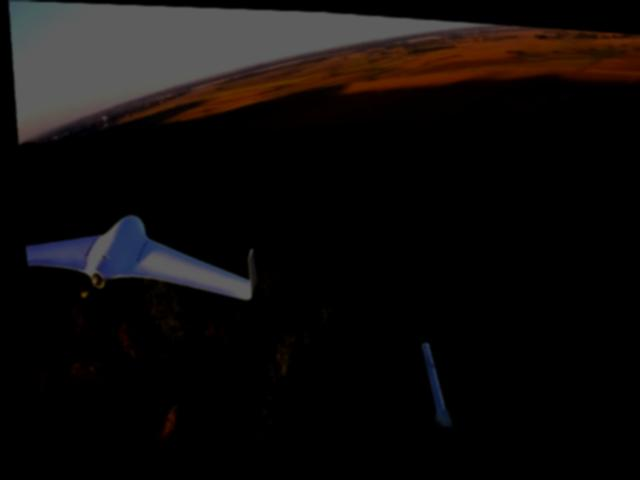plane: (17, 207, 256, 301)
